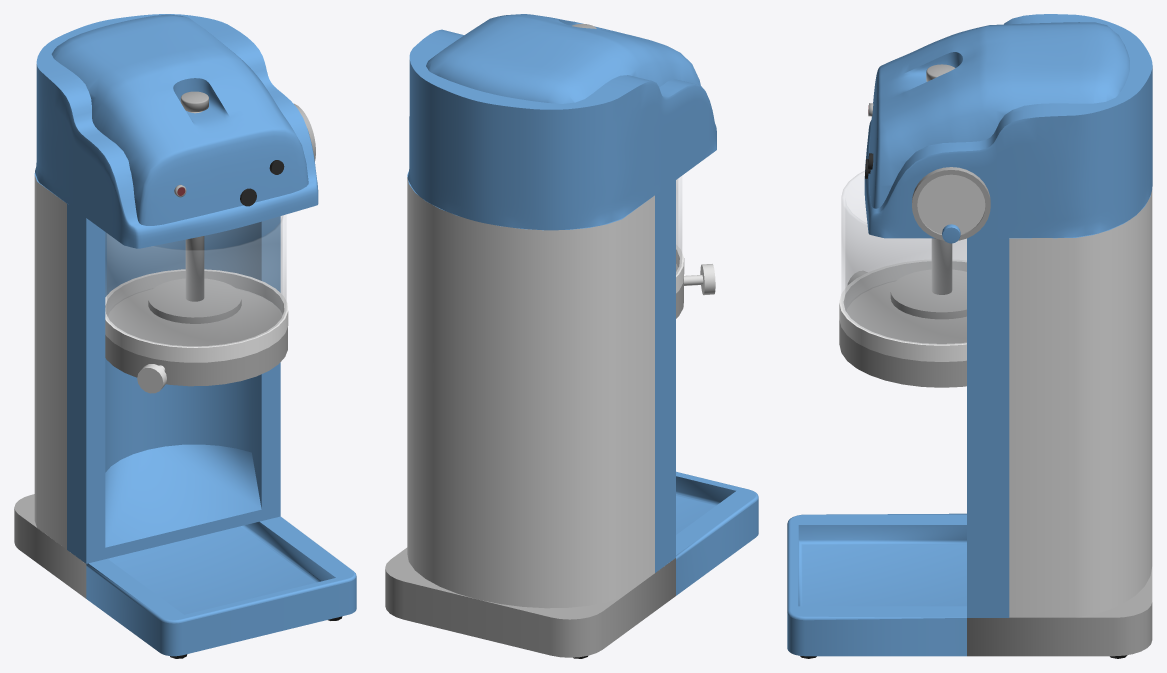
The model's file is Ice-Shaver.glb.
3 renders of one model, left to right at view 1: azimuth 30°, elevation 25°; view 2: azimuth 150°, elevation 25°; view 3: azimuth 270°, elevation 25°, orthographic. The views are drawn at different scales.
Parts seen in each view (by area): view 1: GST_SWAN ICE SHAVER SI-100E; view 2: GST_SWAN ICE SHAVER SI-100E; view 3: GST_SWAN ICE SHAVER SI-100E.
Boxes of the visible parts, x1=… form: GST_SWAN ICE SHAVER SI-100E: x1=14, y1=14, x2=356, y2=658; GST_SWAN ICE SHAVER SI-100E: x1=385, y1=14, x2=758, y2=658; GST_SWAN ICE SHAVER SI-100E: x1=787, y1=14, x2=1152, y2=658.
Size of the model in its own units: 0.1948 by 0.4507 by 0.2648.
